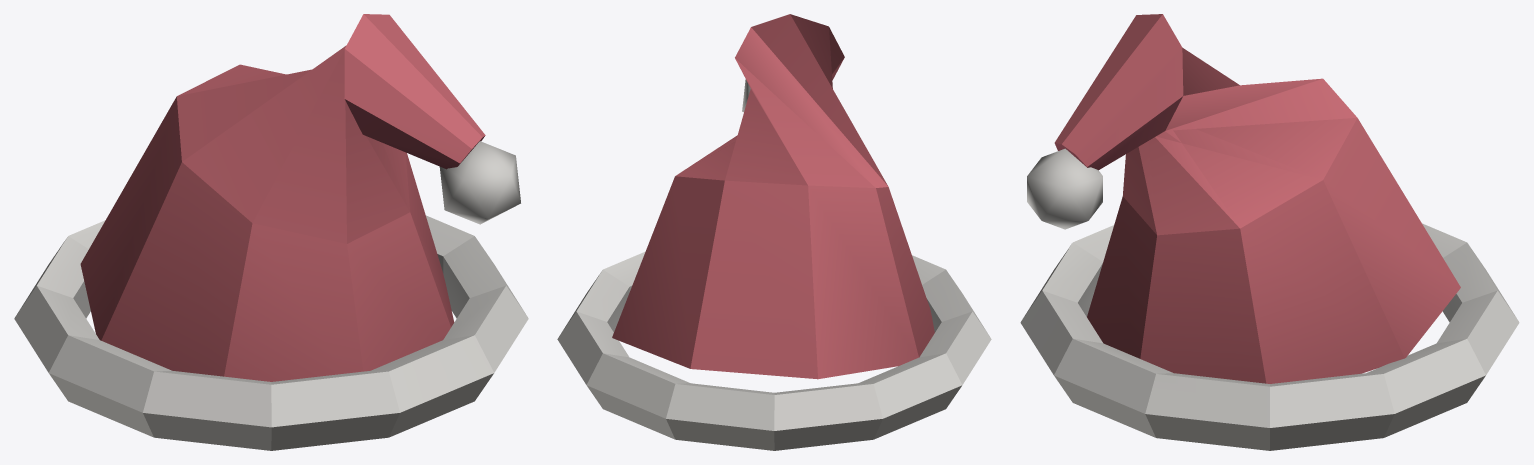
File: resident_santa_hat_low.glb
3 views of the same model, side by side, from view 1: azimuth 30°, elevation 25°; view 2: azimuth 150°, elevation 25°; view 3: azimuth 270°, elevation 25° (orthographic). The views are drawn at different scales.
Size of the model in its own units: 1.34 by 1.06 by 1.34.
